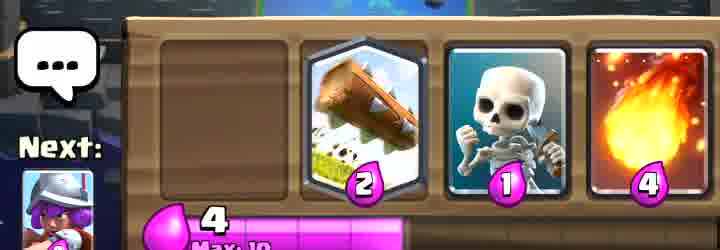fireball: (595, 47, 710, 194)
log: (311, 42, 423, 191)
musketeer: (24, 171, 93, 250)
skeleton: (448, 58, 558, 201)
